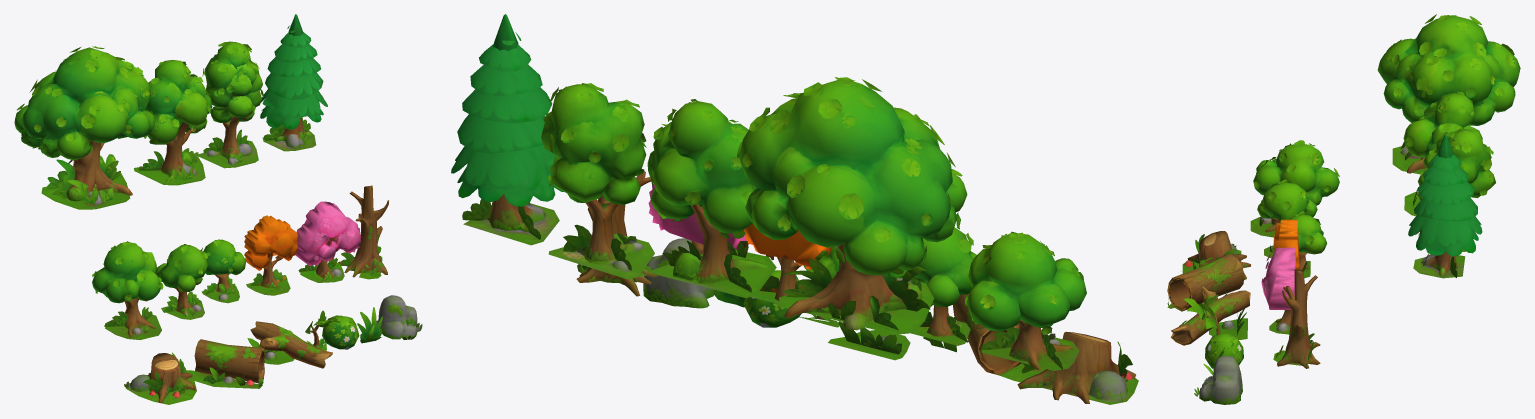
The model's file is forest-props.fbx.
3 renders of one model, left to right at view 1: azimuth 30°, elevation 25°; view 2: azimuth 150°, elevation 25°; view 3: azimuth 270°, elevation 25°, orthographic. The views are drawn at different scales.
Visible parts, largest first — view 1: tripo_node_3e8f5ecb; view 2: tripo_node_3e8f5ecb; view 3: tripo_node_3e8f5ecb.
Boxes of the visible parts, left/top/right/bottom form: tripo_node_3e8f5ecb: left=14, top=14, right=422, bottom=404; tripo_node_3e8f5ecb: left=451, top=14, right=1138, bottom=404; tripo_node_3e8f5ecb: left=1167, top=14, right=1520, bottom=404.
Size of the model in its own units: 0.9995 by 0.8198 by 0.9536.
1 material, 1 textured.
